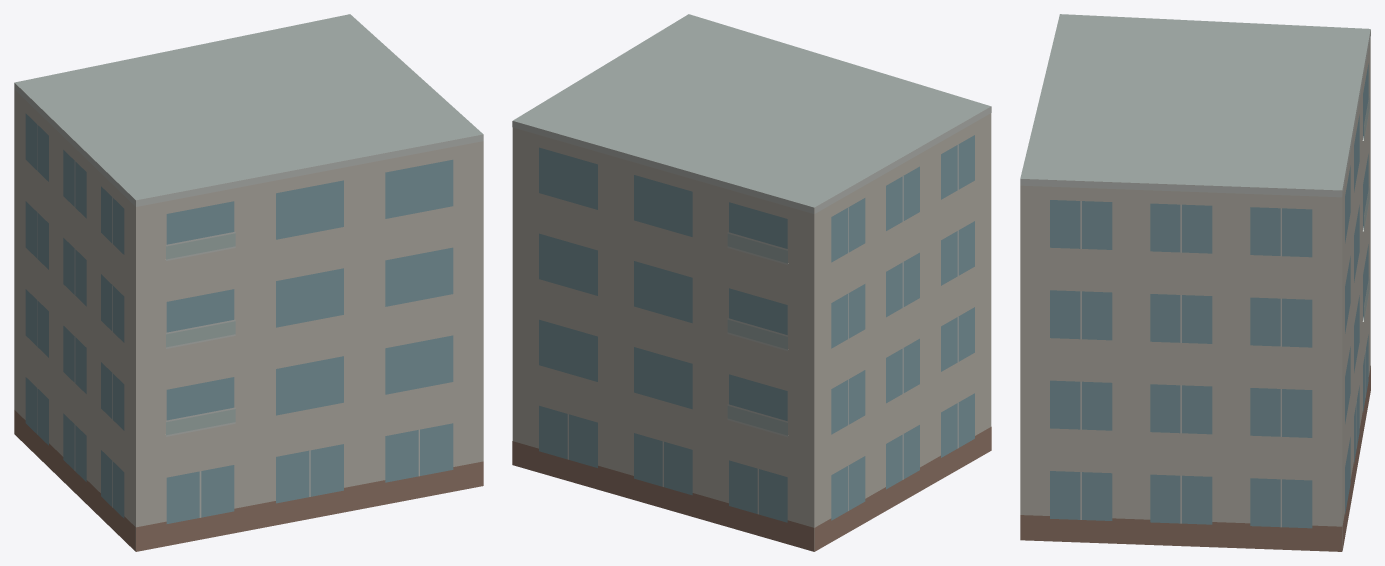
The model's file is survey-upis-32576015.glb.
3 views of the same model, side by side, from view 1: azimuth 30°, elevation 25°; view 2: azimuth 150°, elevation 25°; view 3: azimuth 270°, elevation 25° (orthographic). The views are drawn at different scales.
Parts seen in each view (by area): view 1: survey-upis-32576015.tmp; view 2: survey-upis-32576015.tmp; view 3: survey-upis-32576015.tmp.
Boxes of the visible parts, x1,y1,x2,y2 form: survey-upis-32576015.tmp: (14, 14, 483, 551); survey-upis-32576015.tmp: (512, 14, 991, 551); survey-upis-32576015.tmp: (1020, 14, 1370, 551).
Bounding box in the file's own units: 13.41 × 12.8 × 11.26.
